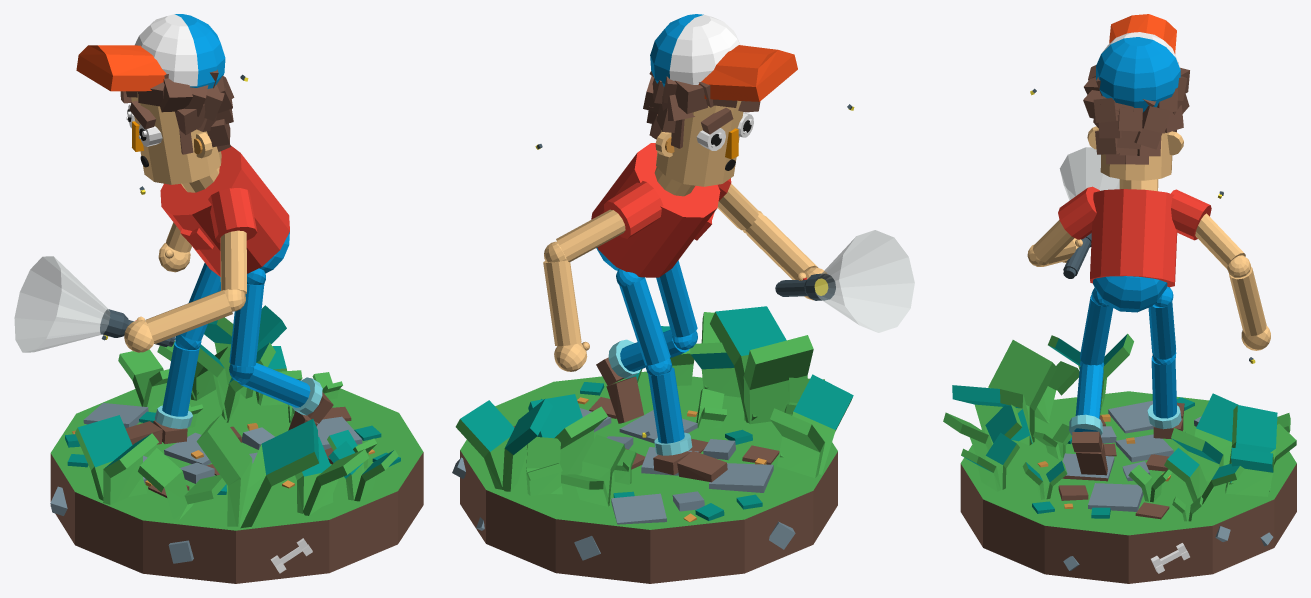
File: scene_UsIRFlFjkM.glb
3 views of the same model, side by side, from view 1: azimuth 30°, elevation 25°; view 2: azimuth 150°, elevation 25°; view 3: azimuth 270°, elevation 25° (orthographic). The views are drawn at different scales.
Visible parts, largest first — view 1: group605084615, group957474877, group1752294346, group242261794, group994842430, group1572012695, group1478482026, group812604050, group573203894, group983093993, group2082744981, group1784145228 (+29 smaller); view 2: group605084615, group1752294346, group957474877, group242261794, group812604050, group1478482026, group1572012695, group994842430, group1028774203, group574679179, group573203894, group1742905456 (+25 smaller); view 3: group605084615, group957474877, group242261794, group812604050, group595707773, group954910121, group994842430, group1752294346, group1028774203, group1205844244, group1831516876, group2082744981 (+33 smaller).
Boxes of the visible parts, bbox=[...] form: group605084615: bbox=[50, 385, 423, 583]; group957474877: bbox=[160, 145, 289, 276]; group1752294346: bbox=[14, 256, 109, 352]; group242261794: bbox=[135, 14, 225, 88]; group994842430: bbox=[240, 419, 319, 528]; group1572012695: bbox=[131, 92, 221, 184]; group1478482026: bbox=[76, 45, 166, 91]; group812604050: bbox=[196, 414, 252, 526]; group573203894: bbox=[75, 415, 147, 500]; group983093993: bbox=[145, 290, 232, 343]; group2082744981: bbox=[229, 284, 264, 366]; group1784145228: bbox=[208, 188, 257, 242]; group605084615: bbox=[460, 371, 837, 583]; group1752294346: bbox=[814, 230, 914, 332]; group957474877: bbox=[591, 143, 720, 277]; group242261794: bbox=[650, 14, 740, 86]; group812604050: bbox=[743, 335, 813, 424]; group1478482026: bbox=[698, 45, 797, 101]; group1572012695: bbox=[656, 100, 743, 186]; group994842430: bbox=[710, 306, 786, 422]; group1028774203: bbox=[455, 400, 526, 489]; group574679179: bbox=[779, 374, 853, 474]; group573203894: bbox=[770, 408, 824, 478]; group1742905456: bbox=[619, 277, 670, 365]; group605084615: bbox=[960, 391, 1296, 583]; group957474877: bbox=[1090, 189, 1177, 287]; group242261794: bbox=[1096, 32, 1180, 112]; group812604050: bbox=[988, 340, 1057, 445]; group595707773: bbox=[1093, 276, 1167, 312]; group954910121: bbox=[1226, 405, 1277, 491]; group994842430: bbox=[952, 385, 1033, 443]; group1752294346: bbox=[1060, 147, 1119, 200]; group1028774203: bbox=[1225, 447, 1273, 496]; group1205844244: bbox=[1194, 393, 1238, 465]; group1831516876: bbox=[1229, 266, 1266, 335]; group2082744981: bbox=[1080, 295, 1113, 365].
Bounding box in the file's own units: 2.49 × 3 × 2.13.
